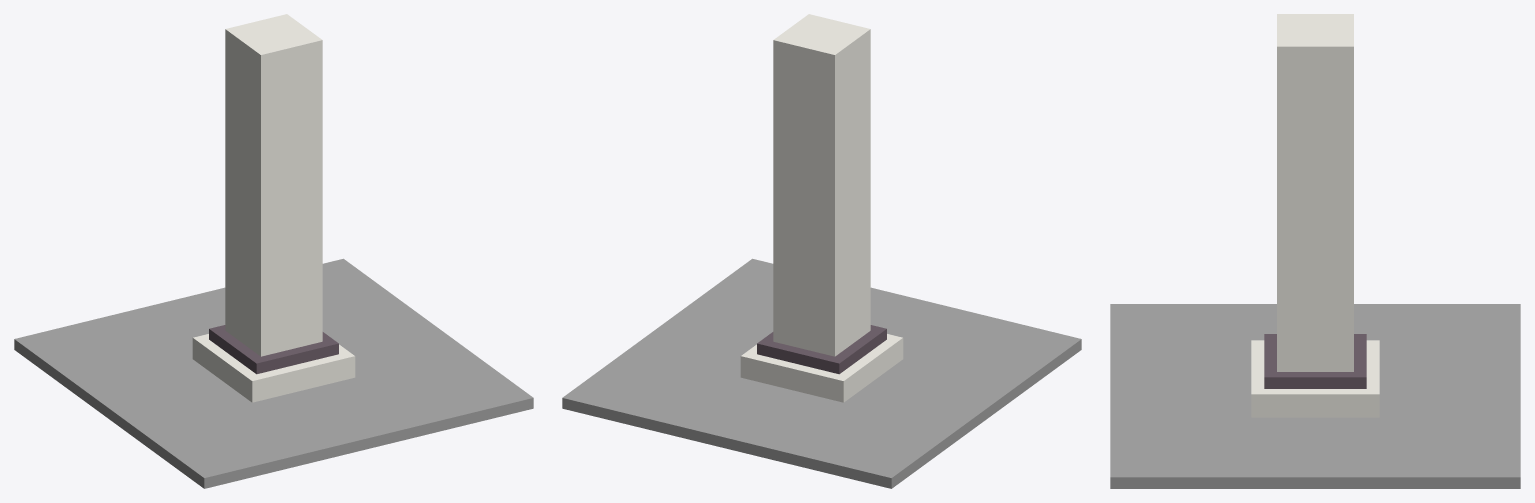
The model's file is pillar.obj.
3 views of the same model, side by side, from view 1: azimuth 30°, elevation 25°; view 2: azimuth 150°, elevation 25°; view 3: azimuth 270°, elevation 25° (orthographic). The views are drawn at different scales.
Bounding box in the file's own units: 32 × 32 × 32.
Materials: 1 (1 with a texture image).
